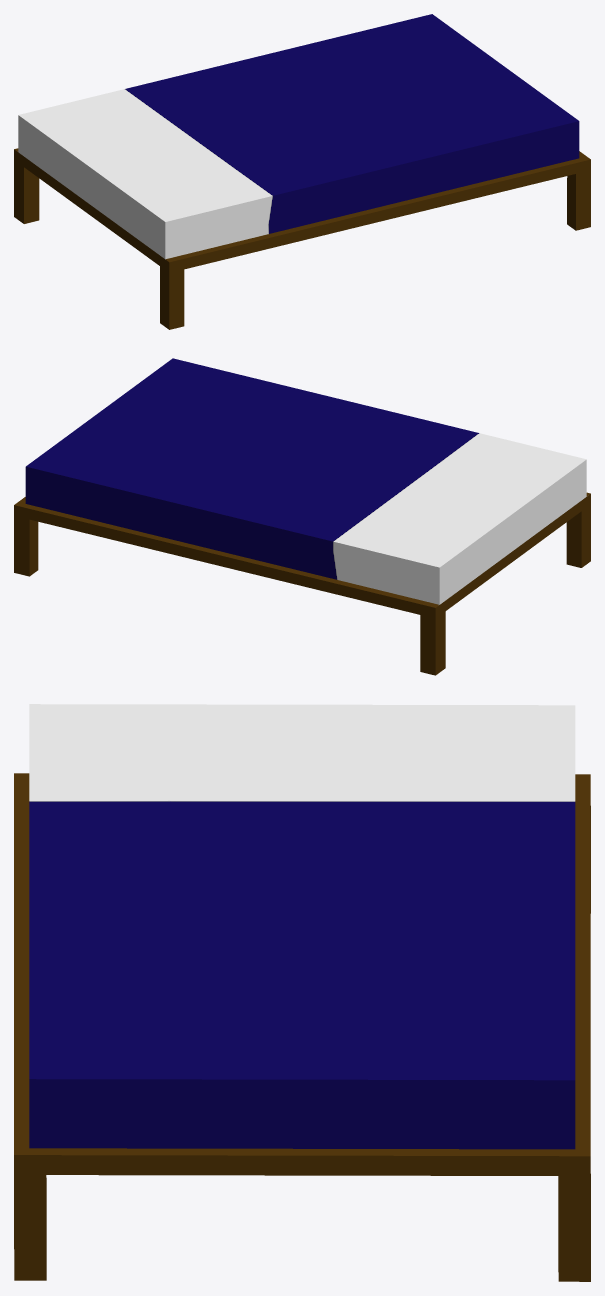
Rendered from Bed.obj.
The picture shows the model from 3 angles, top to bottom: view 1: azimuth 30°, elevation 25°; view 2: azimuth 150°, elevation 25°; view 3: azimuth 270°, elevation 25°; orthographic projection. The views are drawn at different scales.
Parts seen in each view (by area): view 1: Bed1; view 2: Bed1; view 3: Bed1.
Part boxes in pixels (x1,y1,x2,y2): Bed1: (14,14,590,329); Bed1: (14,358,590,675); Bed1: (14,704,590,1281).
Bounding box in the file's own units: 274 × 65.53 × 175.
